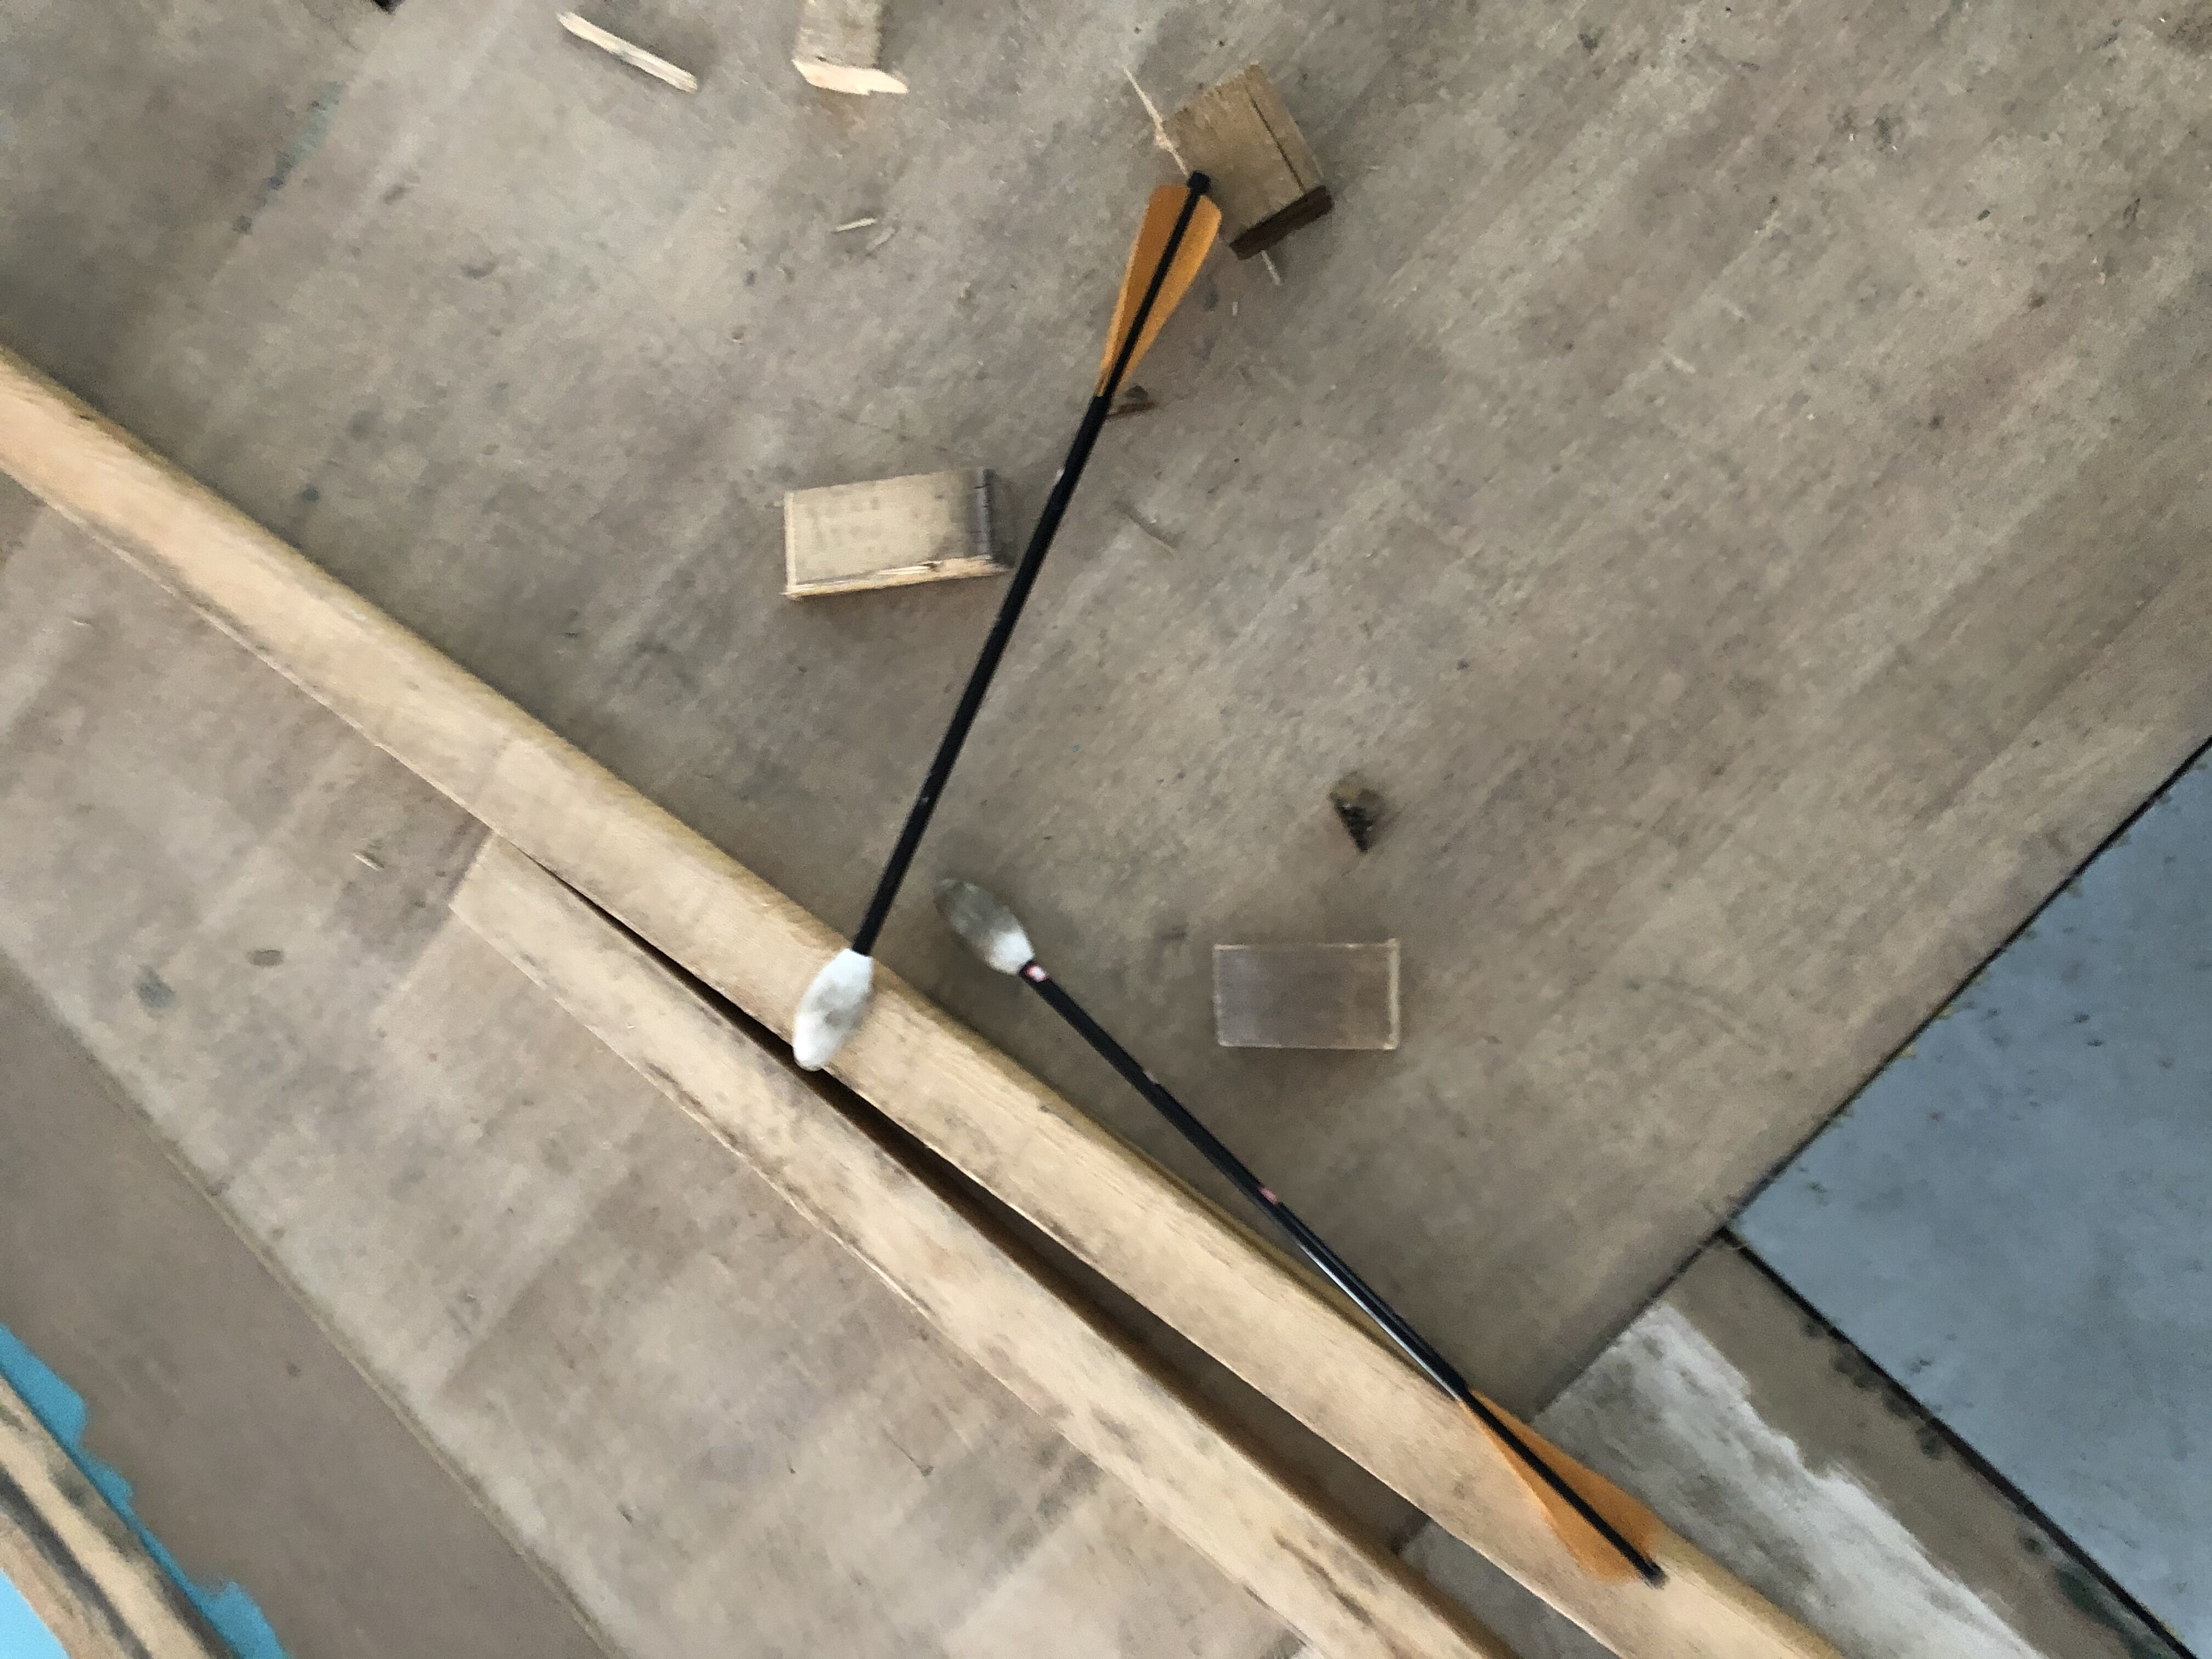arrow: (930, 868, 1669, 1595), (791, 169, 1226, 1073)
arrowFront: (930, 870, 1042, 974), (789, 946, 878, 1070)
